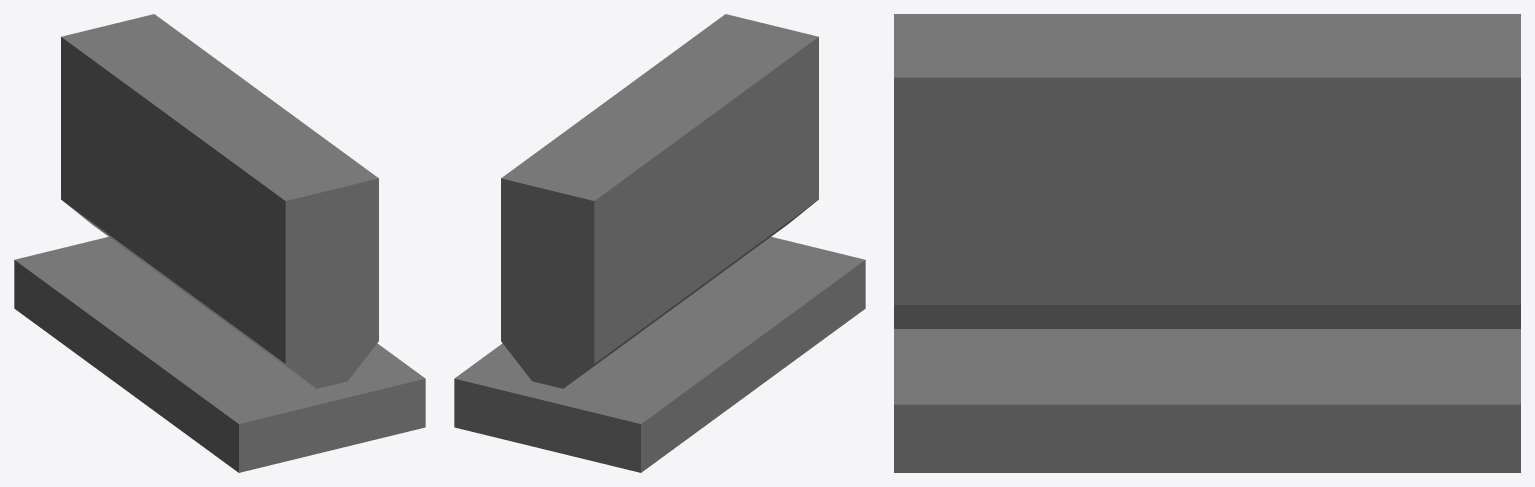
The model's file is Т9_Кромки.glb.
3 renders of one model, left to right at view 1: azimuth 30°, elevation 25°; view 2: azimuth 150°, elevation 25°; view 3: azimuth 270°, elevation 25°, orthographic. The views are drawn at different scales.
Parts seen in each view (by area): view 1: node_id3; view 2: node_id3; view 3: node_id3.
Part boxes in pixels (x1,y1,x2,y2): node_id3: [14, 14, 425, 472]; node_id3: [454, 14, 865, 472]; node_id3: [894, 14, 1520, 472].
Size of the model in its own units: 0.384 by 0.512 by 0.8.
1 material, 1 textured.
